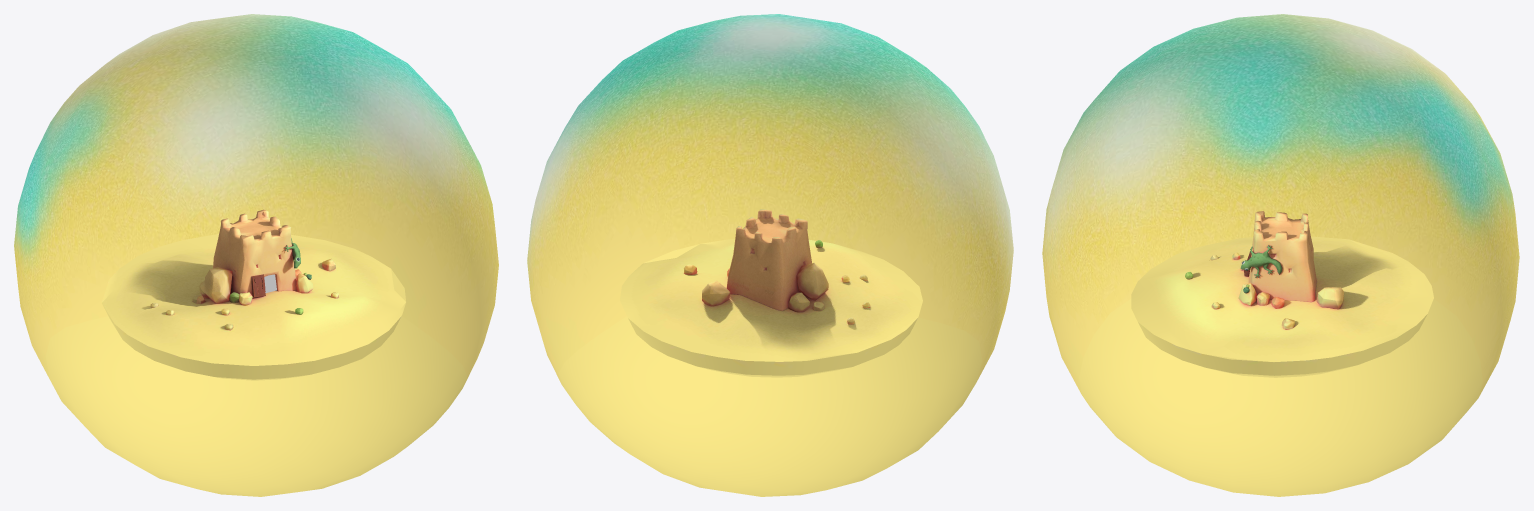
Rendered from desert33.glb.
The picture shows the model from 3 angles, left to right: view 1: azimuth 30°, elevation 25°; view 2: azimuth 150°, elevation 25°; view 3: azimuth 270°, elevation 25°; orthographic projection.
Parts seen in each view (by area): view 1: Sky, floor, castle; view 2: Sky, floor, castle; view 3: Sky, floor, castle, lizzard.
Part boxes in pixels (x1,y1,x2,y2): Sky: (14, 14, 498, 496); floor: (102, 234, 405, 380); castle: (213, 209, 296, 298); Sky: (527, 14, 1013, 496); floor: (620, 239, 922, 377); castle: (726, 209, 811, 310); Sky: (1042, 14, 1519, 496); floor: (1131, 236, 1433, 377); castle: (1244, 211, 1316, 301); lizzard: (1240, 245, 1282, 277).
Bounding box in the file's own units: 100 × 100 × 100.
Materials: 2 (2 with a texture image).
